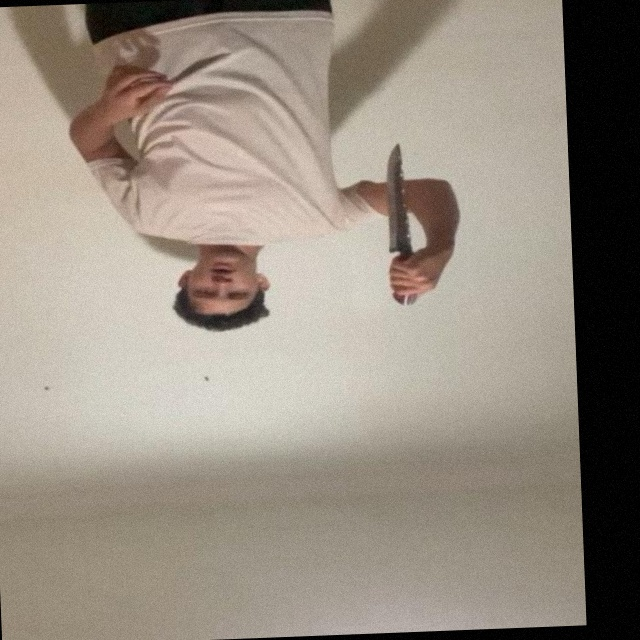Sharp-Object: (382, 142, 413, 254)
